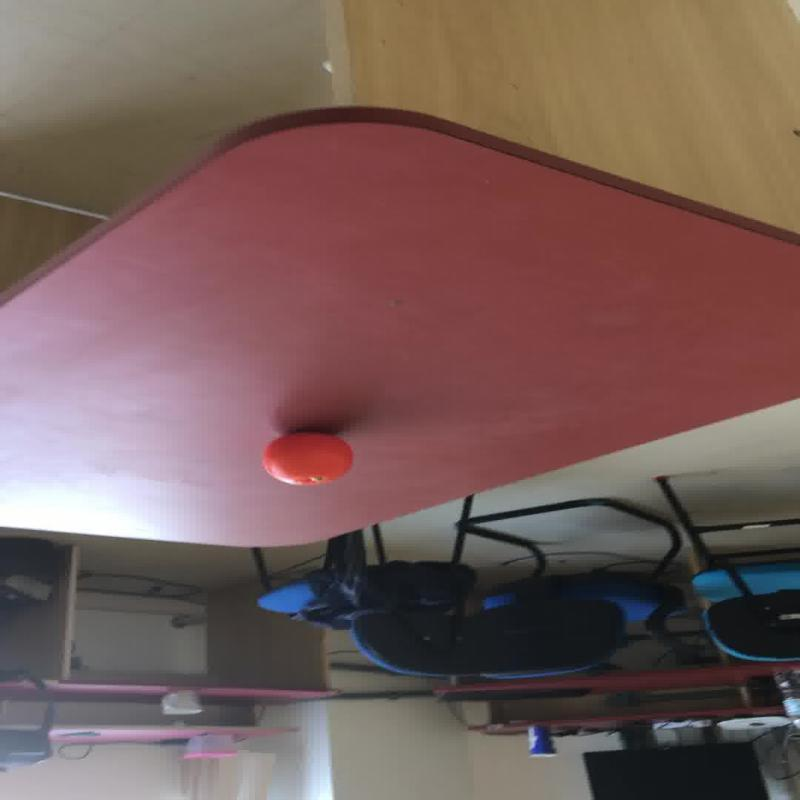orange: (260, 430, 352, 485)
